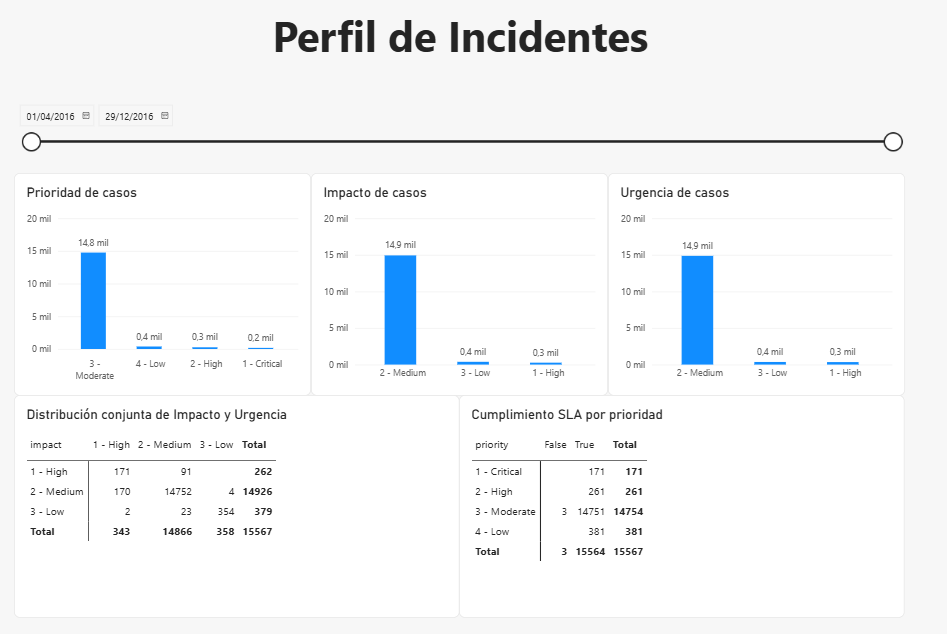

The dashboard page shown, as its layout file describes it:
{"tool":"powerbi","page":{"name":"Perfil de incidentes","canvas":[1920,1080],"ordinal":1},"visuals":[{"type":"clusteredColumnChart","title":"Prioridad de casos","fields":{"Category":["incident_powerbi_single.priority"],"Y":["CountNonNull(incident_powerbi_single.number)"]},"box":[41.7,278.3,400,300],"z":0},{"type":"clusteredColumnChart","title":"Impacto de casos","fields":{"Category":["incident_powerbi_single.impact"],"Y":["CountNonNull(incident_powerbi_single.number)"]},"box":[442.1,278.8,400,300],"z":1000},{"type":"clusteredColumnChart","title":"Urgencia de casos","fields":{"Category":["incident_powerbi_single.urgency"],"Y":["CountNonNull(incident_powerbi_single.number)"]},"box":[842.1,278.8,400,300],"z":2000},{"type":"pivotTable","title":"Distribución conjunta de Impacto y Urgencia","fields":{"Columns":["incident_powerbi_single.urgency"],"Rows":["incident_powerbi_single.impact"],"Values":["CountNonNull(incident_powerbi_single.number)"]},"box":[41.7,578.3,600,300],"z":3000},{"type":"slicer","title":"Intervalo de Revision","fields":{"Values":["incident_powerbi_single.opened_at_date"]},"box":[41.7,182.2,1200,74.3],"z":4000},{"type":"pivotTable","title":"Cumplimiento SLA por prioridad","fields":{"Columns":["incident_powerbi_single.made_sla"],"Rows":["incident_powerbi_single.priority"],"Values":["CountNonNull(incident_powerbi_single.number)"]},"box":[641.7,578.3,600,300],"z":5000},{"type":"textbox","box":[373.8,55,536.7,85],"z":6000}]}

Visuals, with their boxes on the page's 1920x1080 design canvas (x1, y1, x2, y2). These are canvas units, not pixel positions in the 947x634 screenshot, which may show the page scaled, cropped or inside an application window:
"Prioridad de casos" clusteredColumnChart: {"x1": 42, "y1": 278, "x2": 442, "y2": 578}
"Impacto de casos" clusteredColumnChart: {"x1": 442, "y1": 279, "x2": 842, "y2": 579}
"Urgencia de casos" clusteredColumnChart: {"x1": 842, "y1": 279, "x2": 1242, "y2": 579}
"Distribución conjunta de Impacto y Urgencia" pivotTable: {"x1": 42, "y1": 578, "x2": 642, "y2": 878}
"Intervalo de Revision" slicer: {"x1": 42, "y1": 182, "x2": 1242, "y2": 256}
"Cumplimiento SLA por prioridad" pivotTable: {"x1": 642, "y1": 578, "x2": 1242, "y2": 878}
textbox: {"x1": 374, "y1": 55, "x2": 910, "y2": 140}
